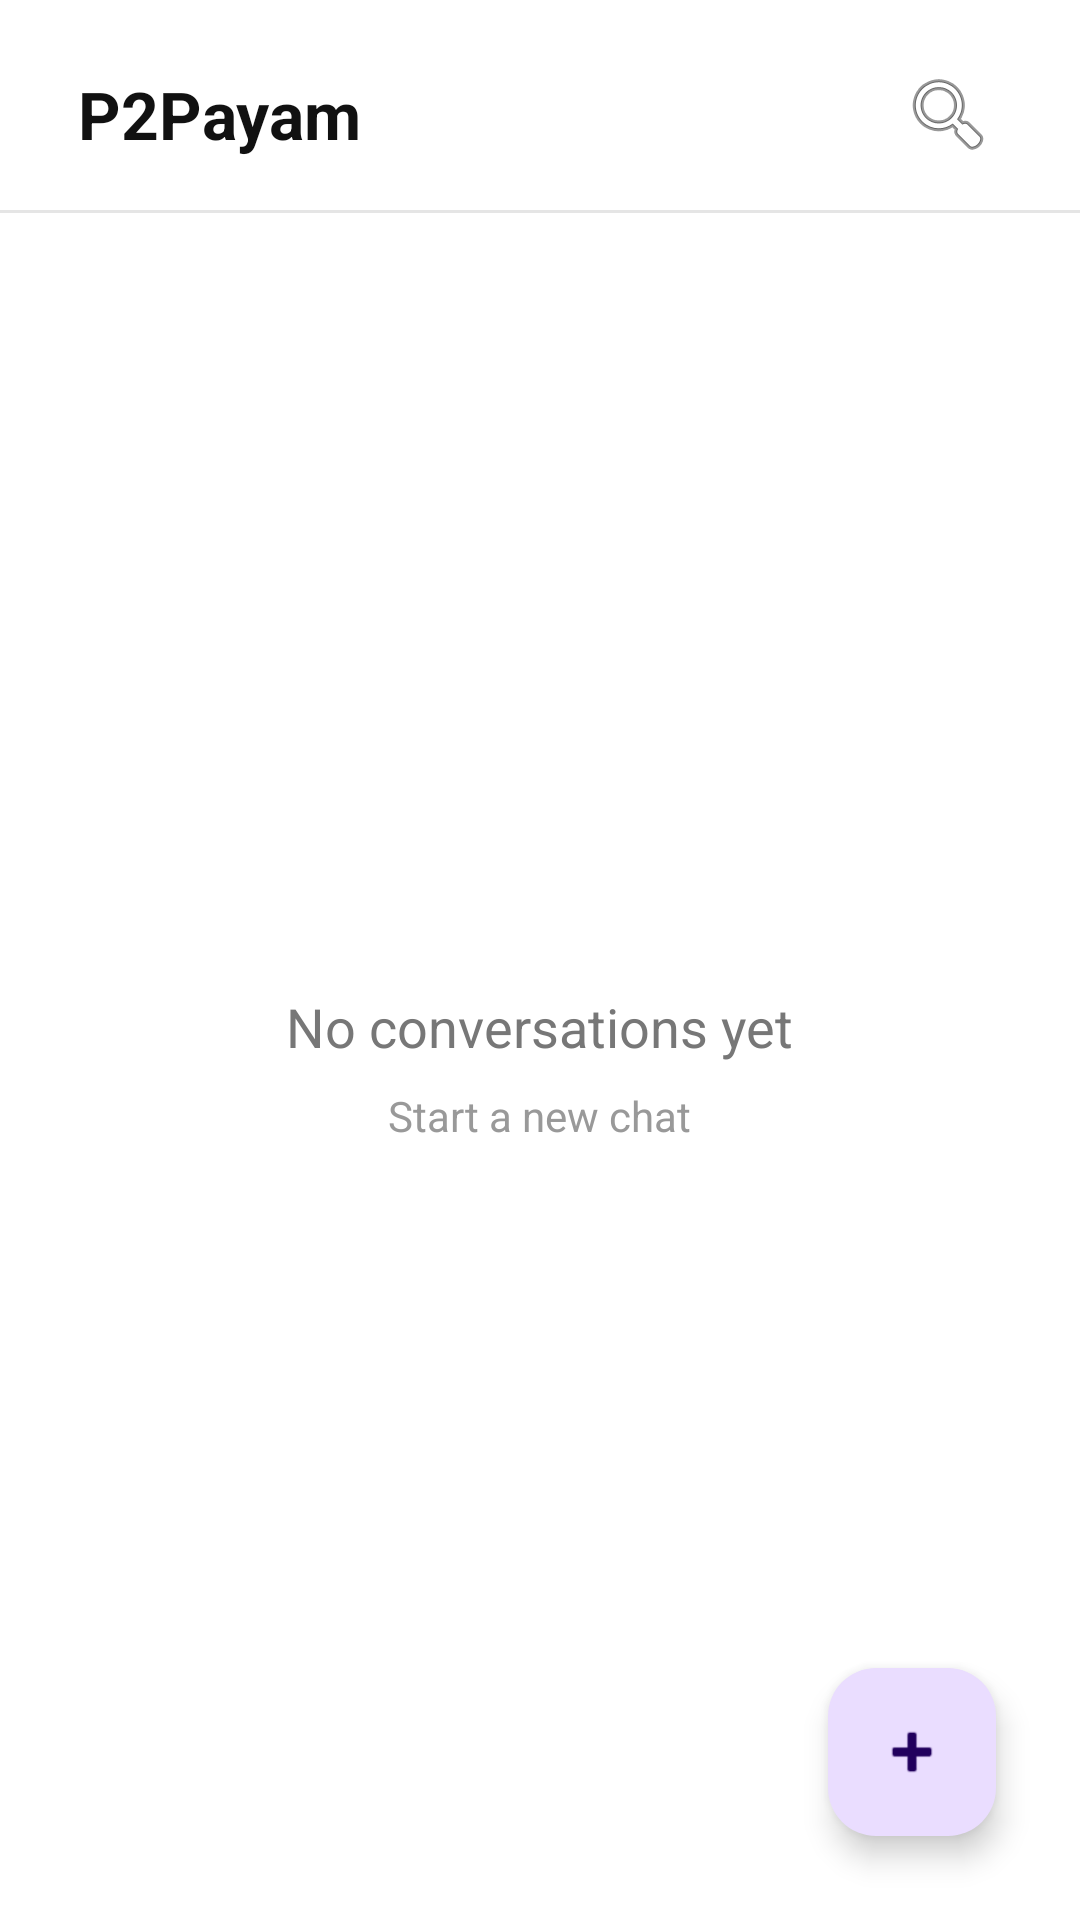

Screen size 1080×1920. Icon name, then its center in pixels as [x,y]:
New chat: [912,1752]
Search: [948,114]
